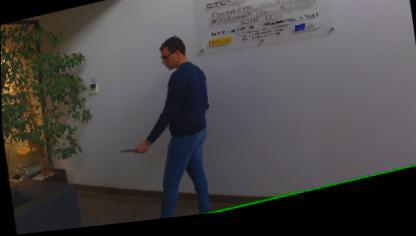knife: (115, 144, 142, 160)
